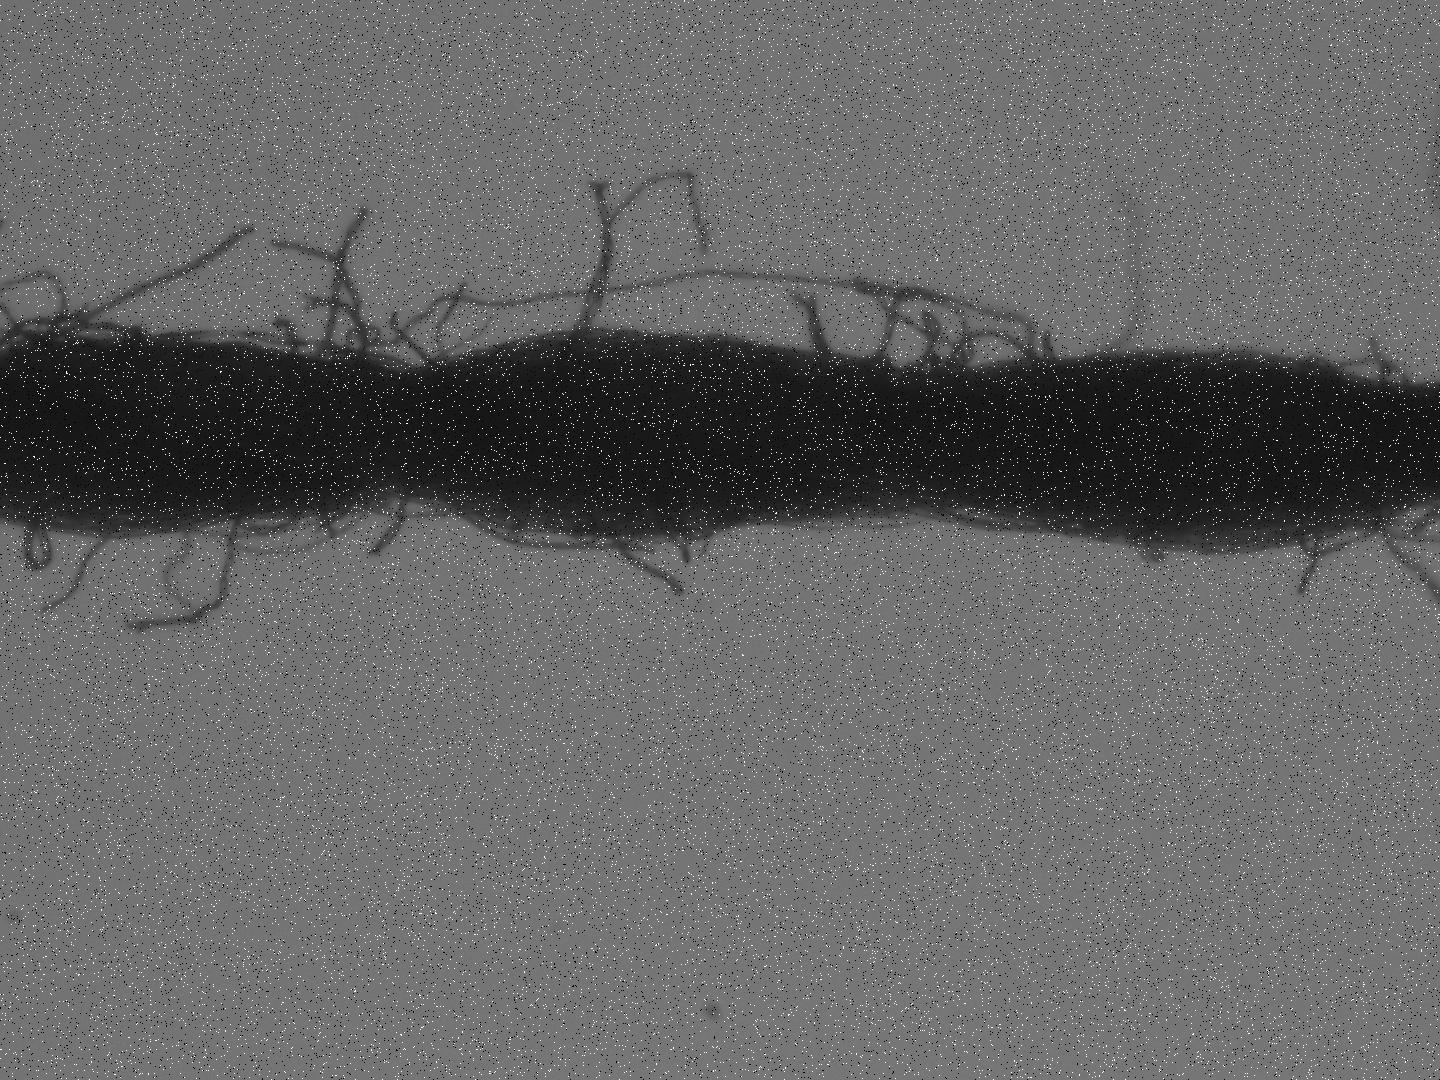loop_fiber: (358, 269, 1037, 369), (869, 292, 969, 374), (910, 504, 1071, 537), (943, 329, 1051, 374), (1301, 512, 1401, 552), (351, 492, 482, 523), (2, 313, 91, 348), (1329, 353, 1413, 386), (231, 507, 310, 538), (40, 323, 149, 343), (18, 515, 52, 571)
protruding_fiber: (122, 514, 251, 632), (319, 204, 371, 357), (37, 529, 110, 621), (603, 529, 688, 599), (359, 491, 408, 558), (389, 310, 439, 363)
